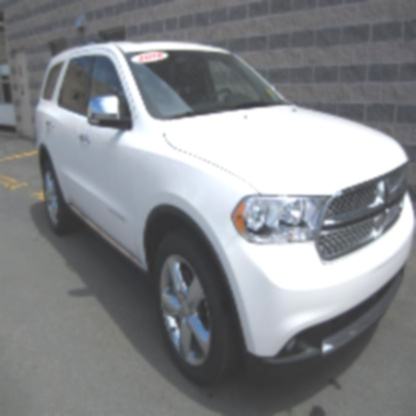Vehicle: (36, 42, 416, 393)
